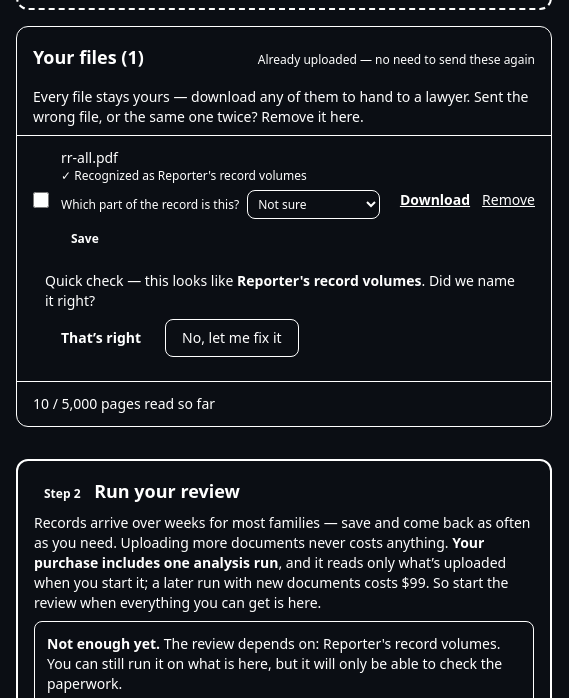
document quick check › "That's right" saves and the question does not come back
(page scrolled)
Expected: the element with test id "echoback" is shown, [33,259,535,369]
Click the button "That’s right".
click(101, 338)  # box [45,319,157,357]
(page scrolled)
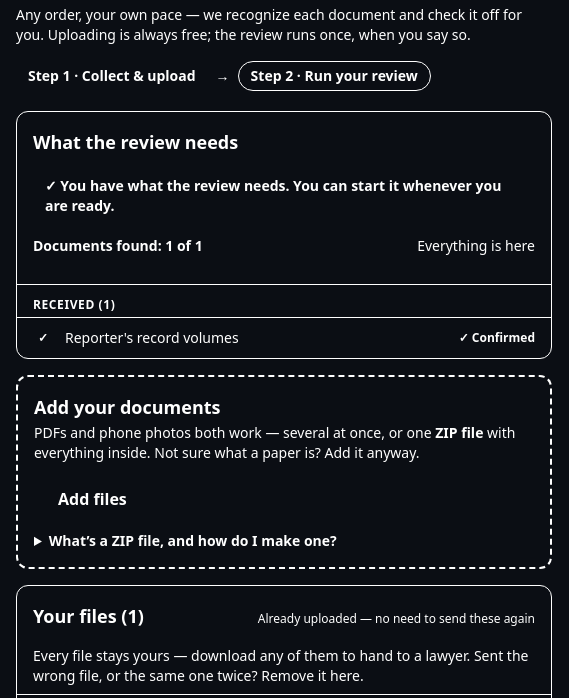
Expected: the element with test id "echoback" is gone
Expected: the text "✓ Confirmed" is shown, [459,330,535,346]
